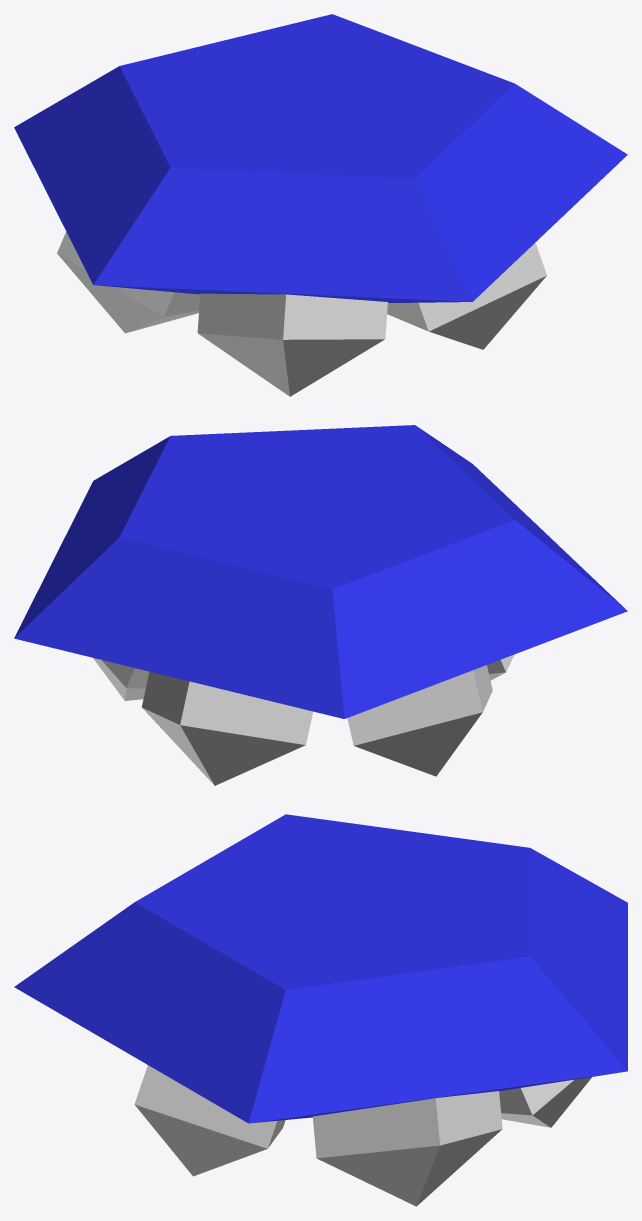
File: drummerbot_booster.fbx
The picture shows the model from 3 angles, top to bottom: view 1: azimuth 30°, elevation 25°; view 2: azimuth 150°, elevation 25°; view 3: azimuth 270°, elevation 25°; orthographic projection. The views are drawn at different scales.
Visible parts, largest first — view 1: Icosphere.004; view 2: Icosphere.004; view 3: Icosphere.004.
Boxes of the visible parts, x1,y1,x2,y2 form: Icosphere.004: (14,14,627,396); Icosphere.004: (14,425,627,785); Icosphere.004: (14,814,627,1206).
Bounding box in the file's own units: 264 × 102 × 251.
